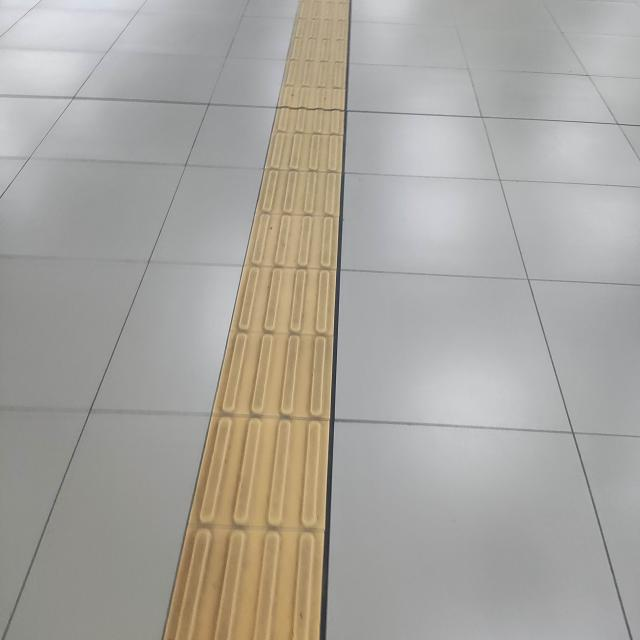lurus: (182, 0, 348, 640)
